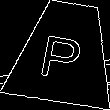P_N: (40, 25, 89, 80)
